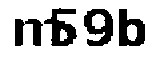5: (51, 7, 78, 51)
9: (79, 9, 113, 52)
b: (117, 4, 146, 50)
m: (8, 17, 60, 52)
